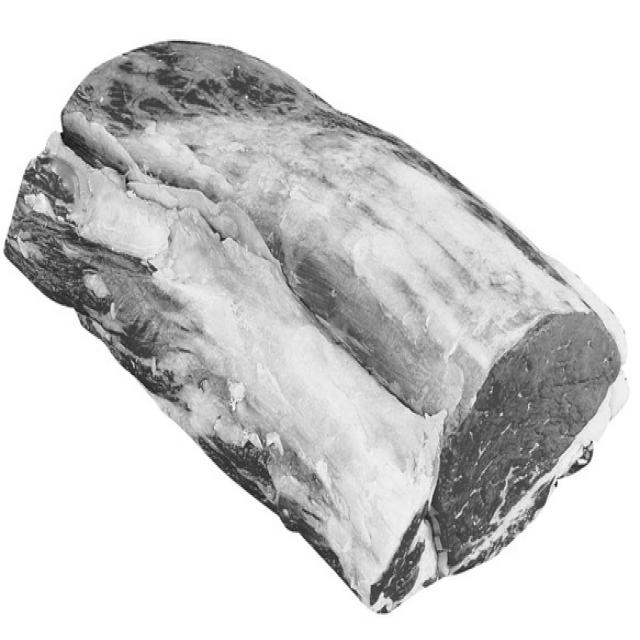filet: (11, 41, 626, 615)
